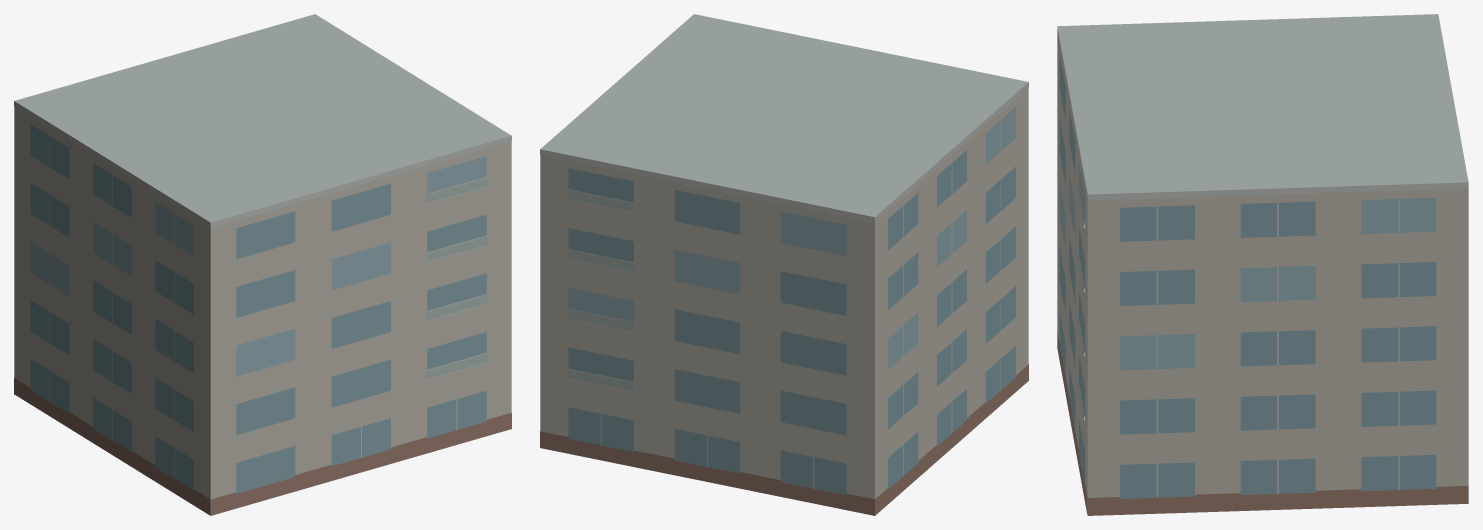
Rendered from survey-upis-32966323.glb.
3 renders of one model, left to right at view 1: azimuth 30°, elevation 25°; view 2: azimuth 150°, elevation 25°; view 3: azimuth 270°, elevation 25°, orthographic. The views are drawn at different scales.
Parts seen in each view (by area): view 1: survey-upis-32966323.tmp; view 2: survey-upis-32966323.tmp; view 3: survey-upis-32966323.tmp.
Part boxes in pixels (left/top/right/bottom): survey-upis-32966323.tmp: left=14, top=14, right=511, bottom=515; survey-upis-32966323.tmp: left=540, top=14, right=1028, bottom=515; survey-upis-32966323.tmp: left=1057, top=14, right=1468, bottom=515.
Size of the model in its own units: 15.79 by 13.1 by 15.21.
